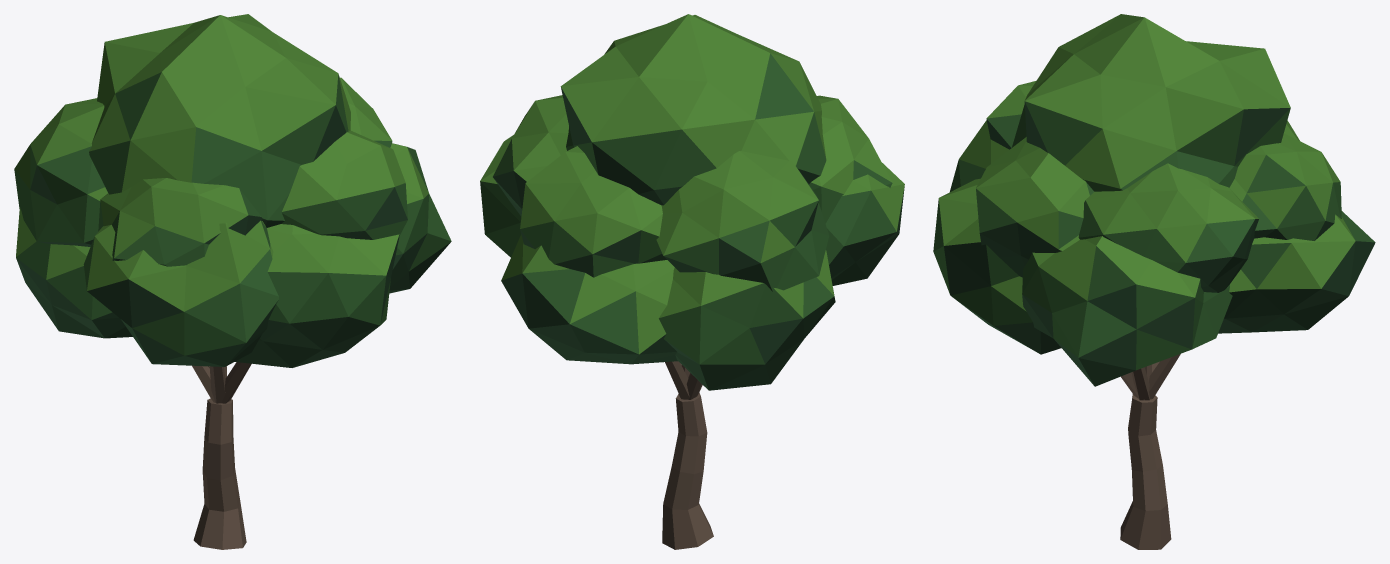
File: T01_MangoTreeLarge.glb
3 views of the same model, side by side, from view 1: azimuth 30°, elevation 25°; view 2: azimuth 150°, elevation 25°; view 3: azimuth 270°, elevation 25° (orthographic).
Visible parts, largest first — view 1: T01_MangoTreeLarge; view 2: T01_MangoTreeLarge; view 3: T01_MangoTreeLarge.
Boxes of the visible parts, x1,y1,x2,y2 form: T01_MangoTreeLarge: [14, 14, 451, 549]; T01_MangoTreeLarge: [480, 14, 904, 549]; T01_MangoTreeLarge: [933, 14, 1375, 549].
Size of the model in its own units: 6.31 by 8.69 by 6.65.
